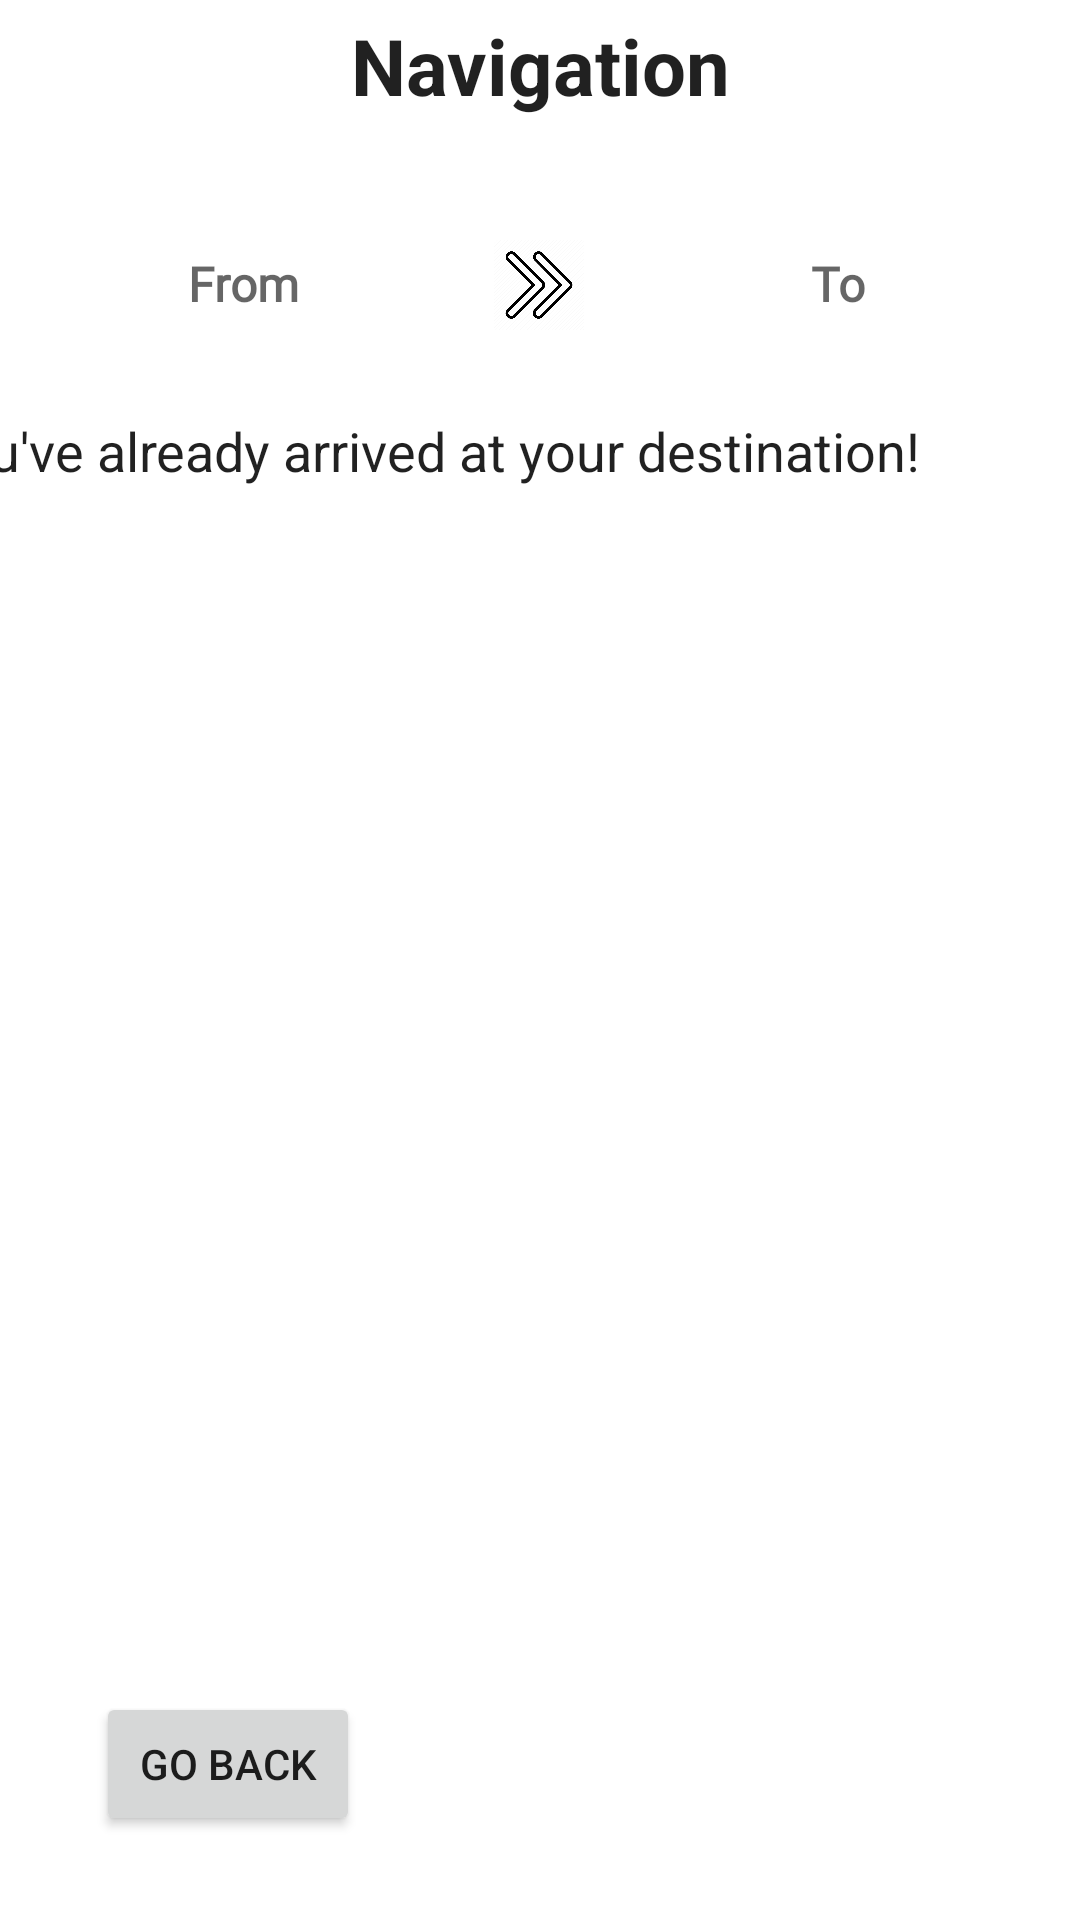

Icon click points for this 1080 x 1920 phone screenshot, format point (x, y):
arrow: point (539, 285)
